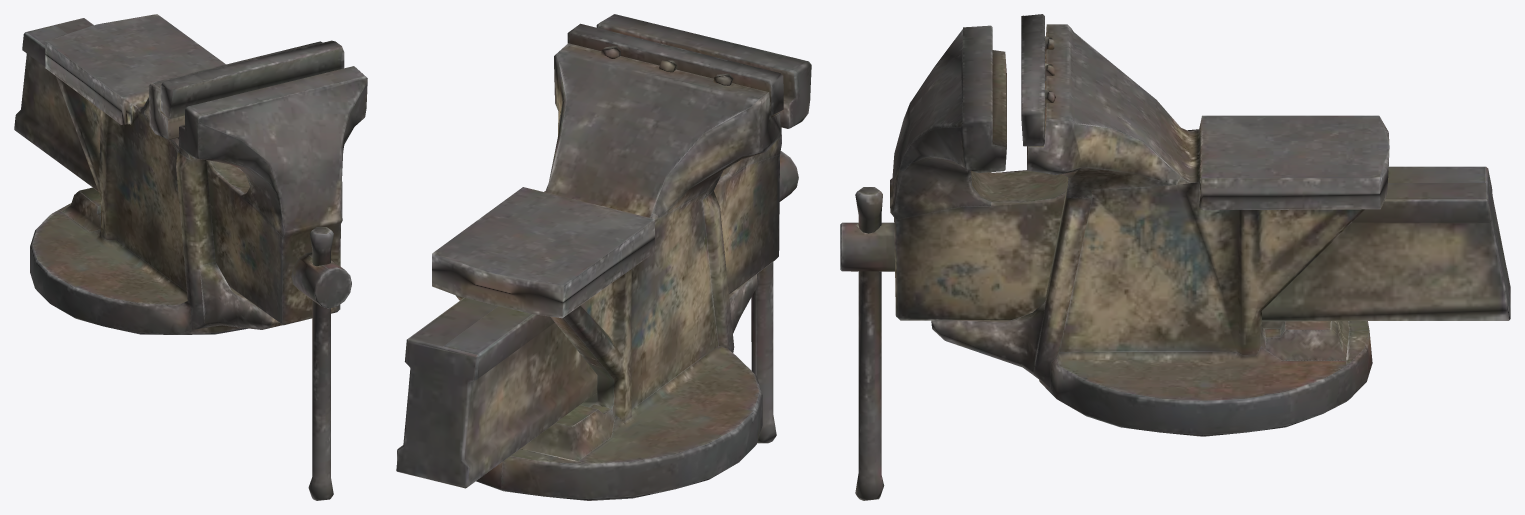
File: g_vice.glb
3 renders of one model, left to right at view 1: azimuth 30°, elevation 25°; view 2: azimuth 150°, elevation 25°; view 3: azimuth 270°, elevation 25°, orthographic. The views are drawn at different scales.
Visible parts, largest first — view 1: bench_vice_frame; view 2: bench_vice_frame; view 3: bench_vice_frame.
Boxes of the visible parts, x1=… form: bench_vice_frame: x1=14, y1=14, x2=367, y2=500; bench_vice_frame: x1=396, y1=14, x2=811, y2=500; bench_vice_frame: x1=840, y1=14, x2=1510, y2=500.
Bounding box in the file's own units: 0.2005 × 0.2845 × 0.3957.
Materials: 1 (1 with a texture image).
